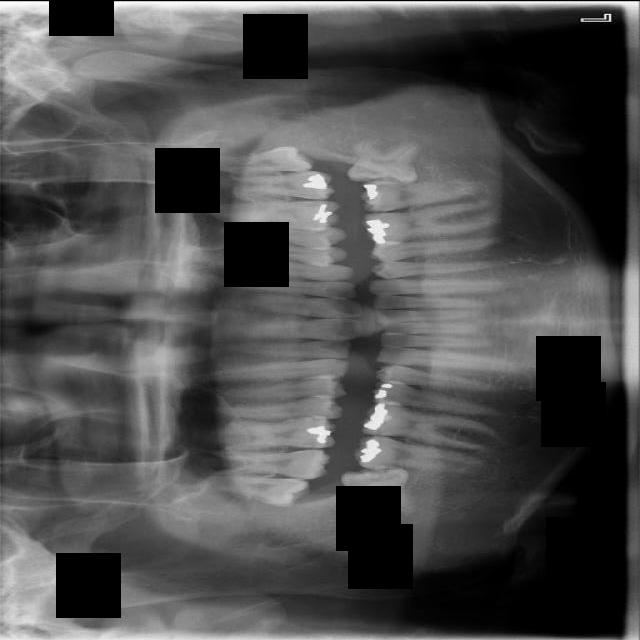3M ESPE Implant: (211, 473, 311, 508)
52: (358, 392, 414, 450), (361, 202, 416, 252), (352, 428, 399, 475), (361, 175, 406, 214), (294, 200, 341, 232), (291, 414, 335, 447), (292, 169, 336, 201), (373, 376, 409, 408)
73: (567, 50, 587, 62)
BioHorizons Implant: (234, 163, 335, 201)
BioLife Implant: (208, 144, 313, 173)
Biomet 3i Implant: (348, 136, 420, 185)
Blue Sky Bio Implant: (362, 175, 476, 212)
Caries: (215, 449, 330, 479)
Implant: (356, 433, 483, 474)
Keystone Dental Implant: (340, 464, 411, 518)
